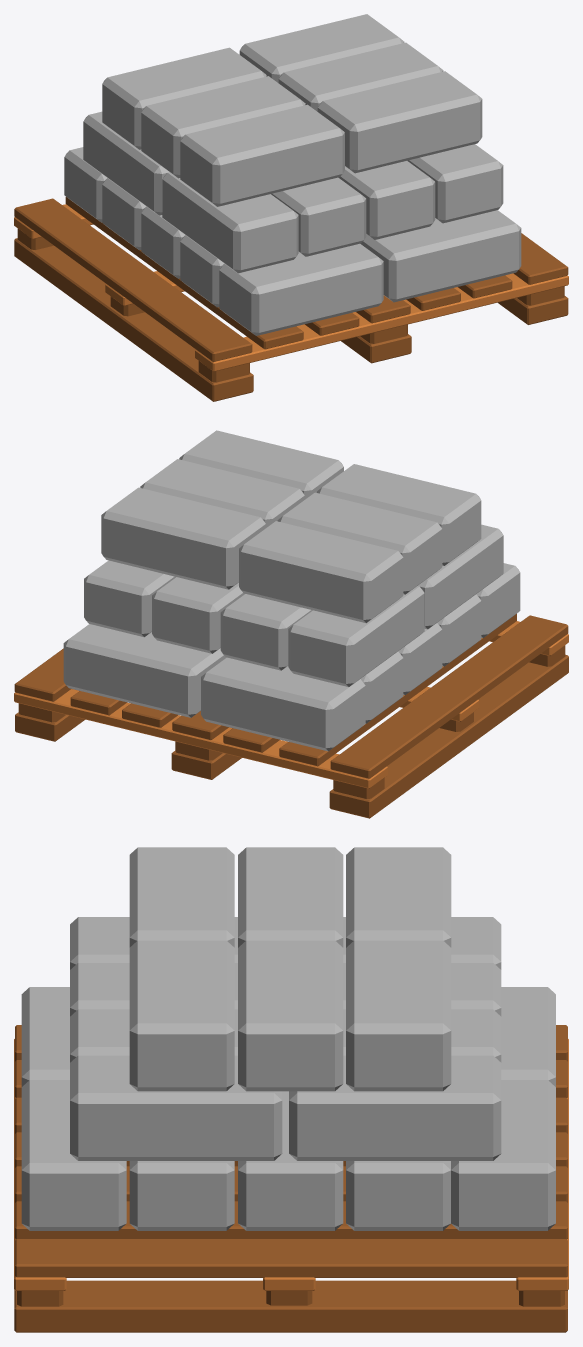
The model's file is Brick B.fbx.
3 renders of one model, top to bottom at view 1: azimuth 30°, elevation 25°; view 2: azimuth 150°, elevation 25°; view 3: azimuth 270°, elevation 25°, orthographic. The views are drawn at different scales.
Visible parts, largest first — view 1: Brick B; view 2: Brick B; view 3: Brick B.
Boxes of the visible parts, x1,y1,x2,y2 form: Brick B: (14, 14, 568, 401); Brick B: (14, 430, 568, 818); Brick B: (14, 847, 568, 1332).
Size of the model in its own units: 239 by 128 by 232.
